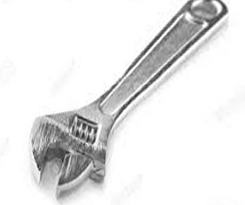wrench: (31, 1, 245, 190)
